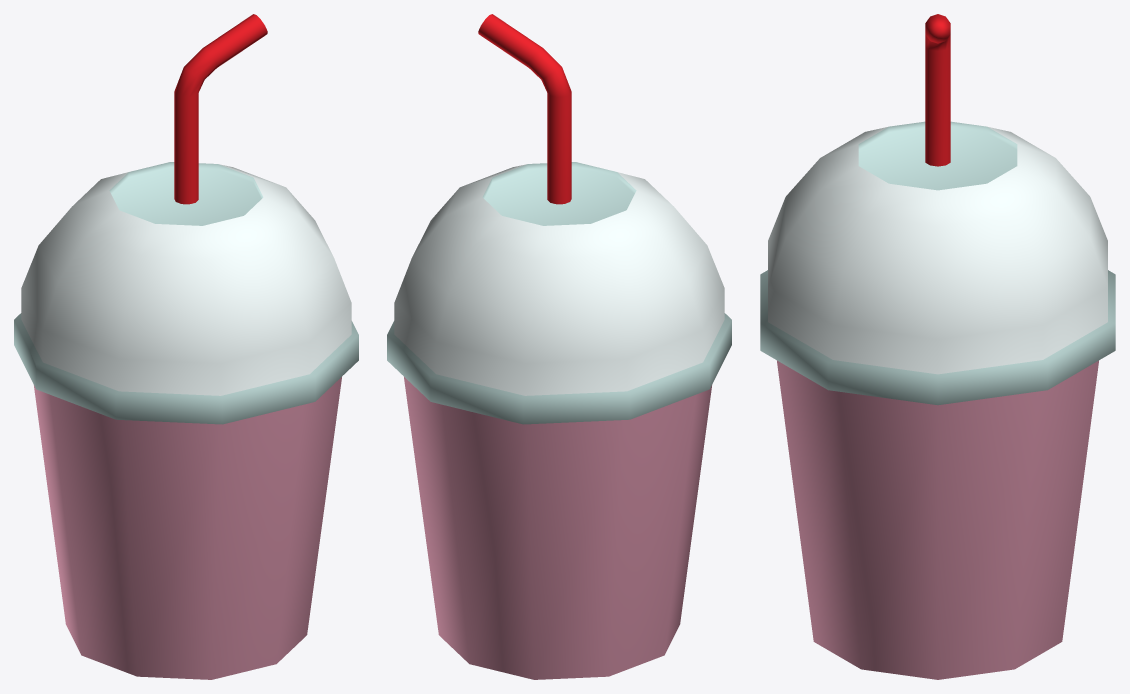
Rendered from milkshake.fbx.
The picture shows the model from 3 angles, left to right: view 1: azimuth 30°, elevation 25°; view 2: azimuth 150°, elevation 25°; view 3: azimuth 270°, elevation 25°; orthographic projection. The views are drawn at different scales.
Parts seen in each view (by area): view 1: milkshake; view 2: milkshake; view 3: milkshake.
Part boxes in pixels (box(x1,y1,x2,y2)): milkshake: box(14, 14, 358, 679); milkshake: box(387, 14, 731, 679); milkshake: box(760, 14, 1115, 679).
Size of the model in its own units: 0.2646 by 0.5033 by 0.2516.
